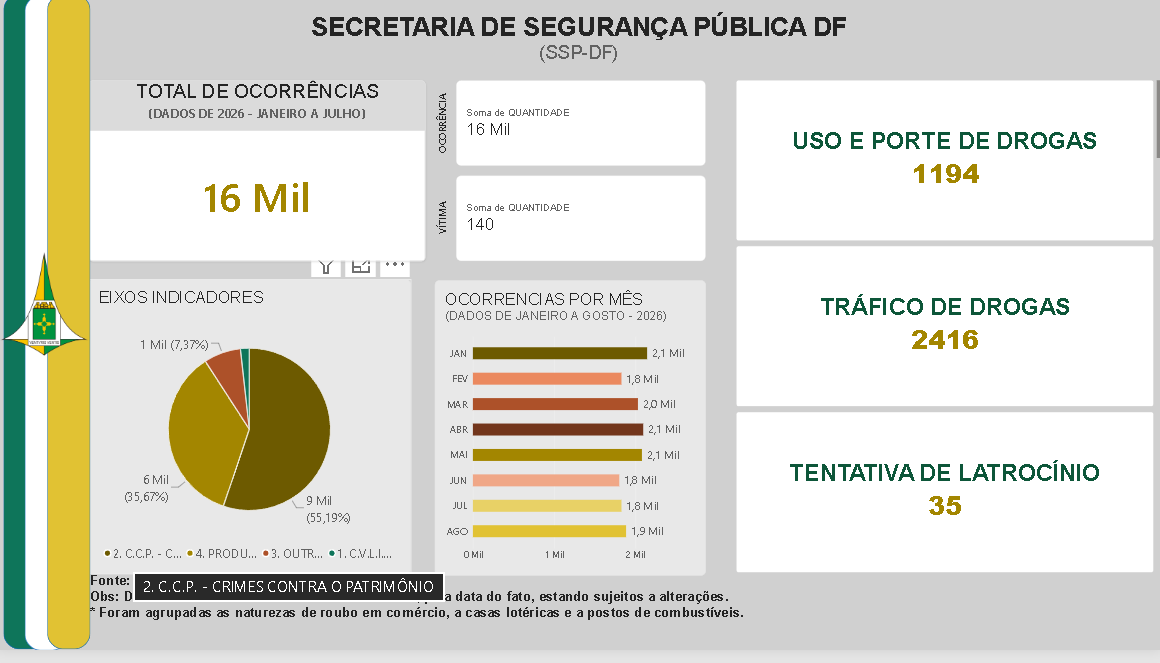

What the dashboard file says about the page in this screenshot:
{"tool":"powerbi","page":{"name":"GDF","canvas":[1920,1080],"ordinal":0},"visuals":[{"type":"advancedSlicerVisual","fields":{"Label":["Sum(DF (site).Valor)"],"Values":["DF (site).NATUREZA"]},"box":[1218.8,141.9,701.2,813.9],"z":0},{"type":"pieChart","title":"EIXOS INDICADORES","fields":{"Category":["DF (site).EIXOS INDICADORES"],"Y":["Sum(DF (site).QUANTIDADE)"]},"box":[152.3,469.6,530.1,486.3],"z":1000},{"type":"cardVisual","title":"TOTAL DE OCORRÊNCIAS","fields":{"Data":["Sum(DF (site).QUANTIDADE)"]},"box":[152.3,141.9,555.1,298.4],"z":2000},{"type":"shape","box":[12.5,0,71,1079],"z":3000},{"type":"shape","box":[47.6,1,71,1079],"z":4000},{"type":"shape","box":[83.5,0,71,1079],"z":5000},{"type":"image","box":[4.2,402.8,150.3,215],"z":6000},{"type":"textbox","title":"SECRETARIA DE SEGURANÇA PÚBLICA DF","box":[469.6,29.2,980.9,87.7],"z":7000},{"type":"textbox","box":[154.4,953.7,1214.6,125.2],"z":8000},{"type":"barChart","title":"OCORRENCIAS POR MÊS","fields":{"Category":["DF (site).MÊS"],"Y":["Sum(DF (site).QUANTIDADE)"]},"box":[722.1,471.7,446.6,486.3],"z":9000},{"type":"cardVisual","fields":{"Data":["Sum(DF.QUANTIDADE)"],"Rows":["DF (site).TIPO"]},"box":[722.1,141.9,446.6,298.4],"z":10000}]}

Visuals, with their boxes in screenshot pixels (x1, y1, x2, y2), scaled from the page's 1920x1080 canvas onto the 1160x663 screenshot:
advancedSlicerVisual - Sum(DF (site).Valor) x DF (site).NATUREZA: locate(736, 87, 1159, 587)
"EIXOS INDICADORES" pieChart: locate(92, 288, 412, 587)
"TOTAL DE OCORRÊNCIAS" cardVisual: locate(92, 87, 427, 270)
shape: locate(8, 0, 50, 662)
shape: locate(29, 1, 72, 662)
shape: locate(50, 0, 93, 662)
image: locate(3, 247, 93, 379)
"SECRETARIA DE SEGURANÇA PÚBLICA DF" textbox: locate(284, 18, 876, 72)
textbox: locate(93, 585, 827, 662)
"OCORRENCIAS POR MÊS" barChart: locate(436, 290, 706, 588)
cardVisual - Sum(DF.QUANTIDADE) x DF (site).TIPO: locate(436, 87, 706, 270)
